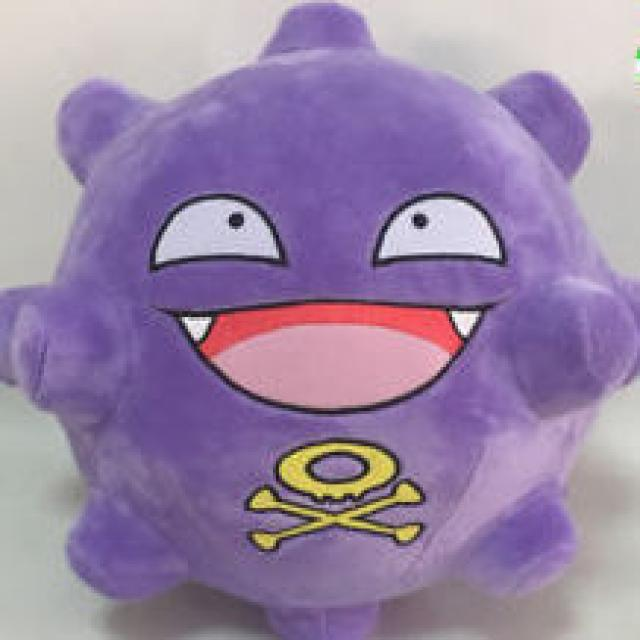Koffing: (22, 3, 637, 640)
